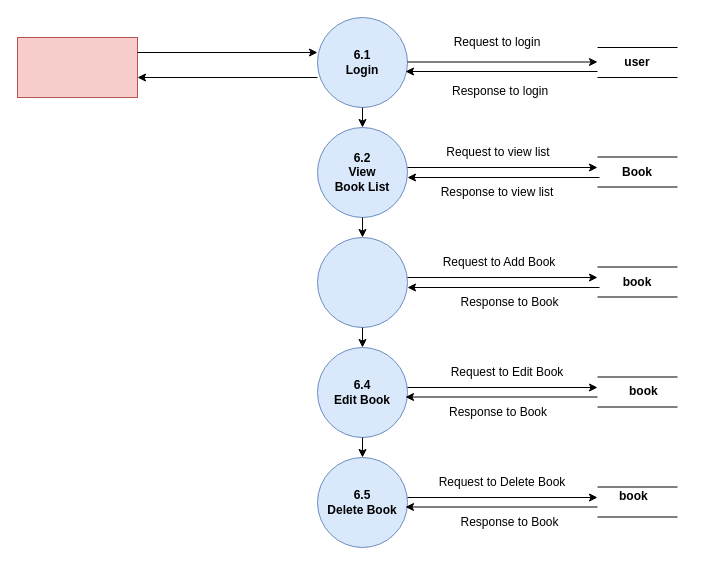
This 725x565 diagram has some shape labels left out. The shapes that lost their labels are listed below. From the top down, each one's box as (x1, y1, x2, y2) in pixels, then its label:
(16, 36, 138, 98): Admin
(316, 236, 408, 328): 6.3 Add Book
